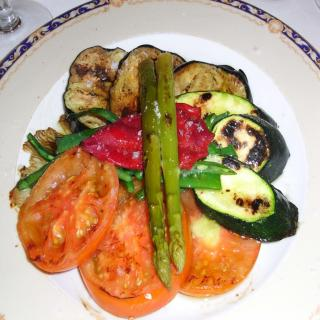tomato: (77, 177, 193, 319), (24, 152, 110, 266), (178, 188, 264, 297)
